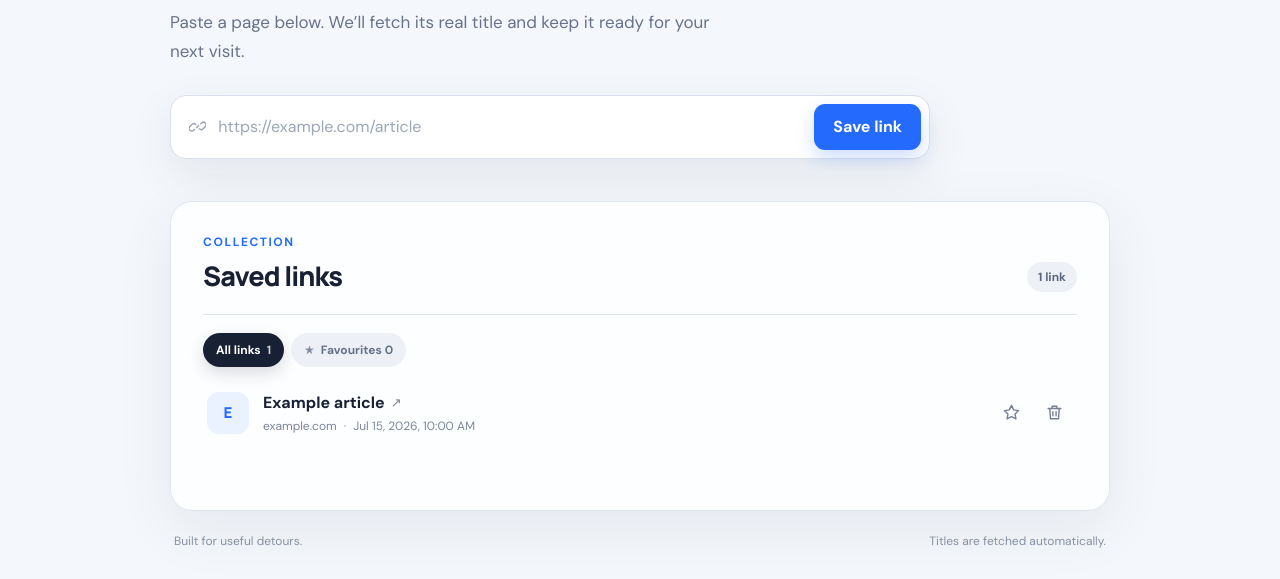
Test: App core link flow › manages keyboard focus while confirming deletion
The image size is (1280, 579).
(page scrolled)
Expected: the link "Example article ↗" is shown, [263, 392, 402, 413]
Click the button named "Delete Example article": x=1054, y=413 [1035, 394, 1073, 432]
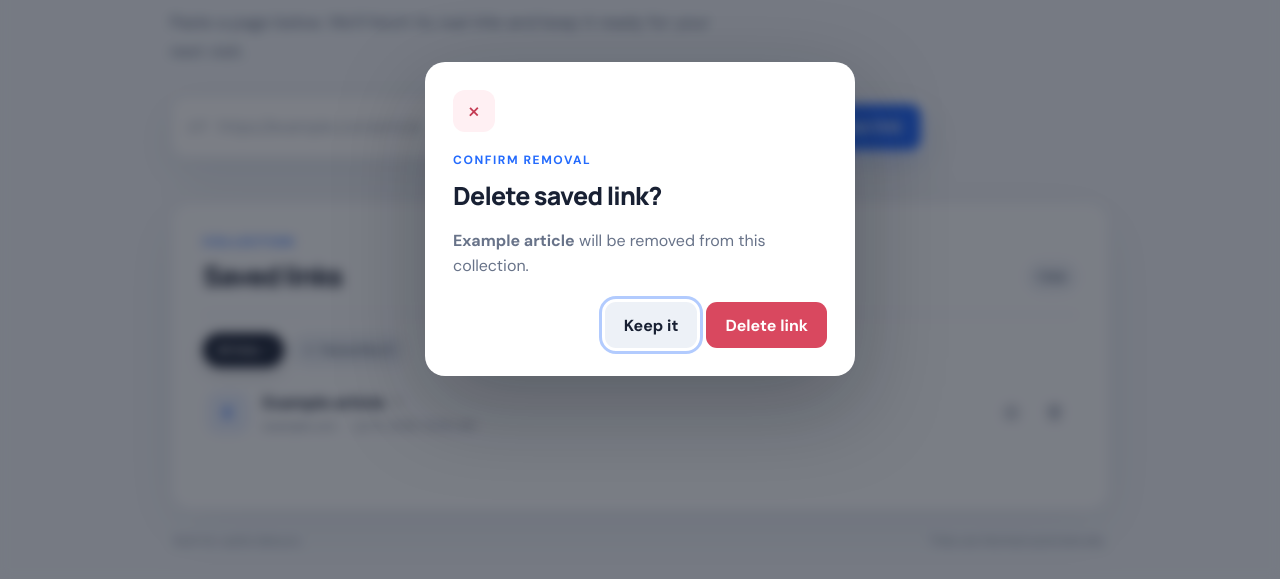
Press Shift+Tab
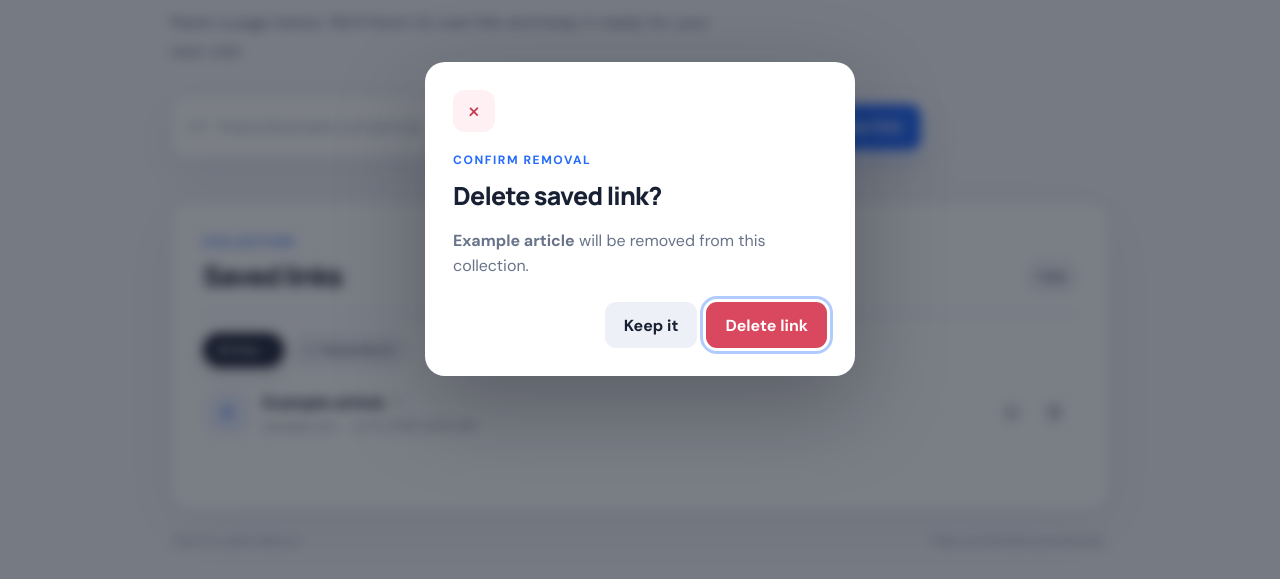
Press Tab
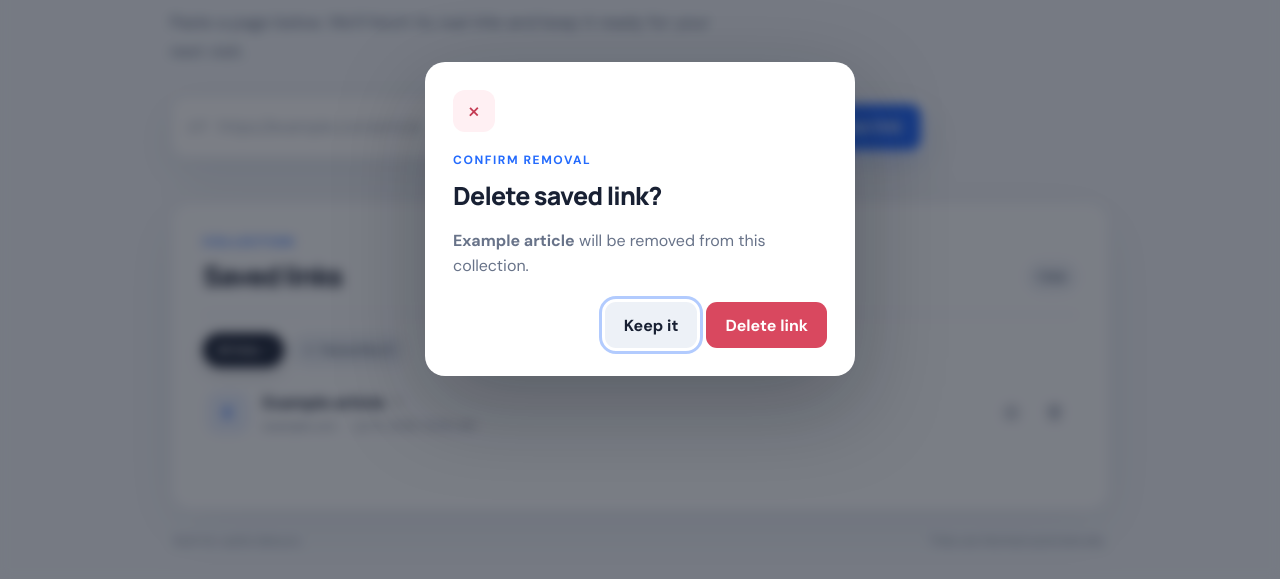
Press Escape
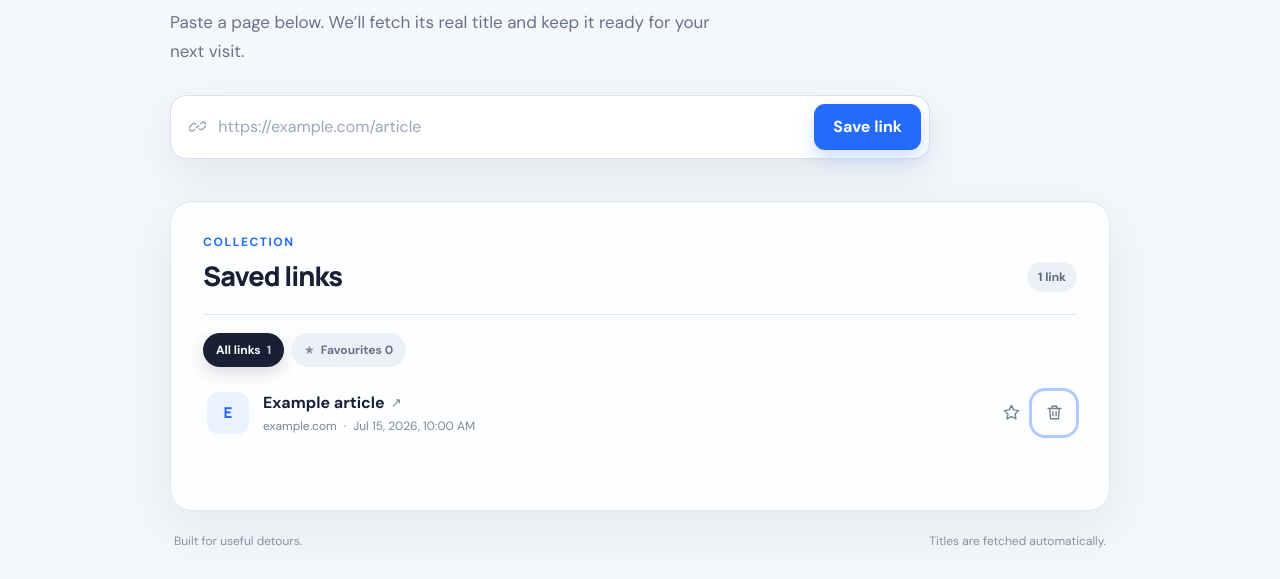
Result: the dialog is gone
